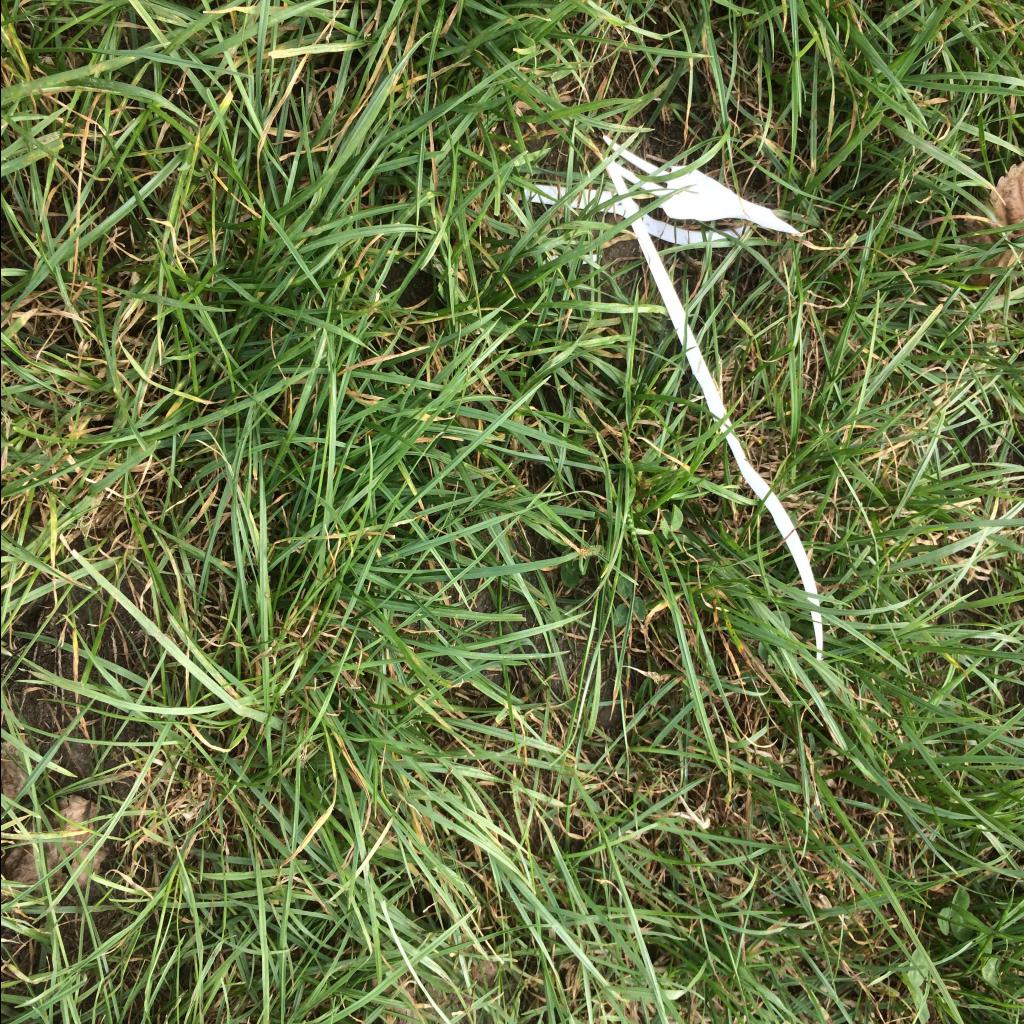Plastic utensils: (606, 161, 822, 661), (602, 136, 800, 236), (524, 184, 748, 244)
